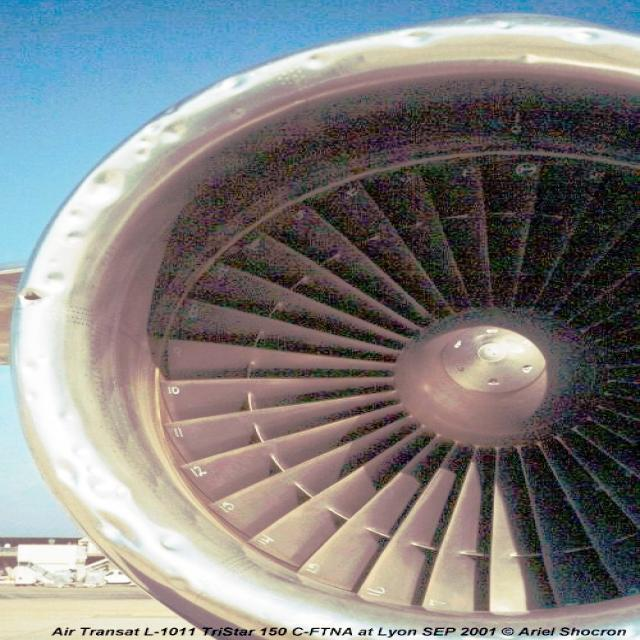dent: (42, 452, 201, 599), (52, 116, 193, 212)
